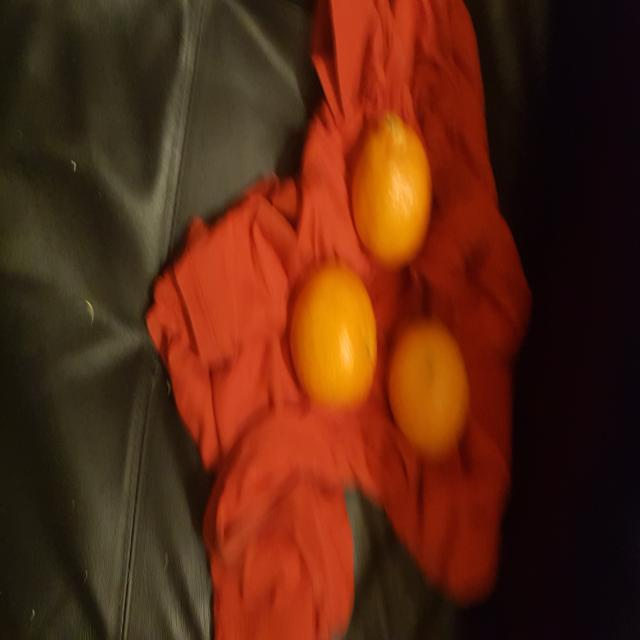Orange: (286, 264, 377, 408), (350, 110, 433, 267), (387, 320, 469, 462)
